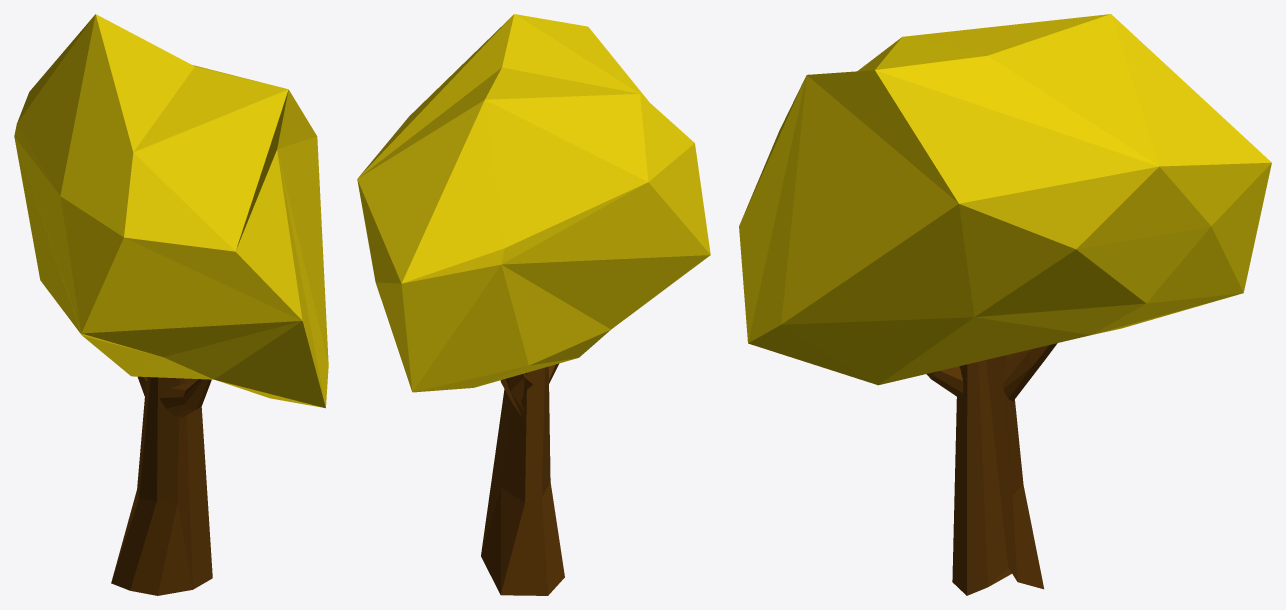
File: Bush#5.fbx
3 views of the same model, side by side, from view 1: azimuth 30°, elevation 25°; view 2: azimuth 150°, elevation 25°; view 3: azimuth 270°, elevation 25° (orthographic). The views are drawn at different scales.
Visible parts, largest first — view 1: Bush#5; view 2: Bush#5; view 3: Bush#5.
Part boxes in pixels (x1,y1,x2,y2): Bush#5: [14, 14, 328, 595]; Bush#5: [357, 14, 710, 595]; Bush#5: [739, 14, 1271, 595].
Bounding box in the file's own units: 92.12 × 173 × 147.
